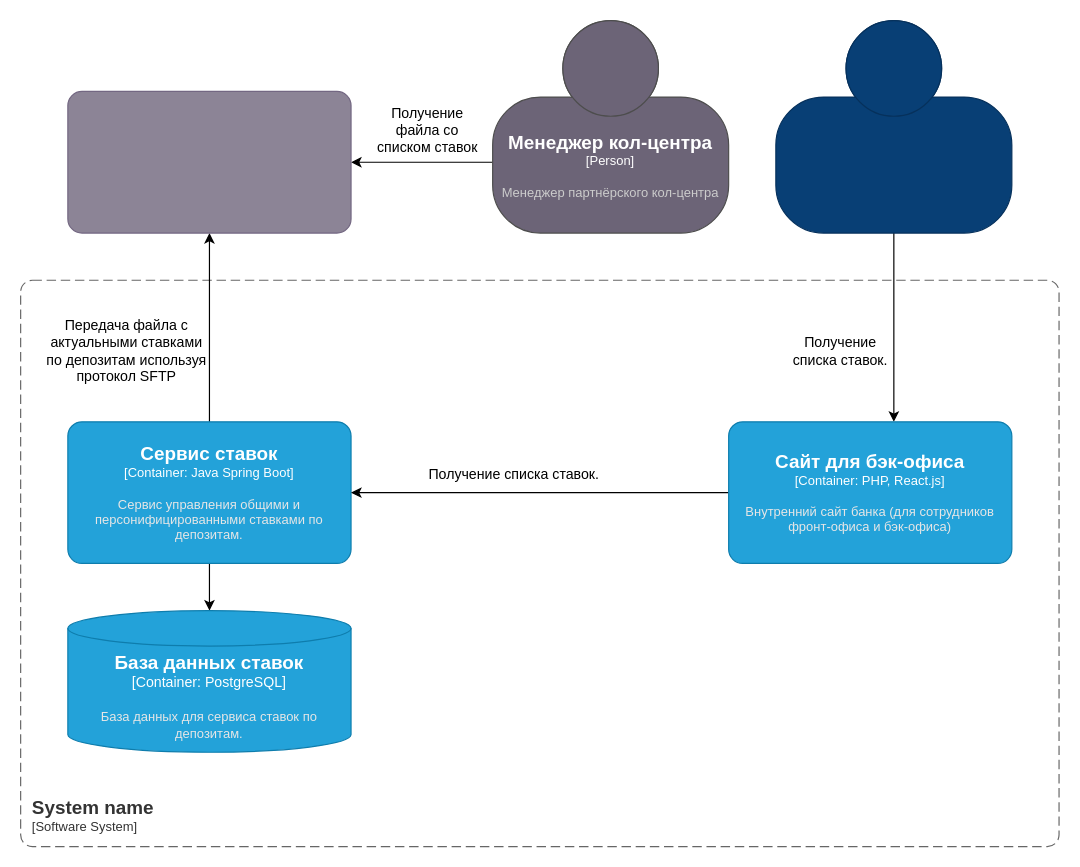
Image size: 1080x867. Some labels were removed from this diagram. Each missing label, with the centre of its shape:
"Менеджер кол-центра [Person] Менеджер кол-центра банка" goes at [893,126].
"Система кол-центра [Software System] Система кол-центра подрядчика" goes at [209,161].
